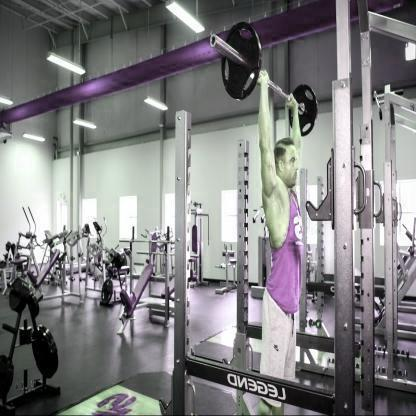Barbell: (206, 28, 218, 52)
